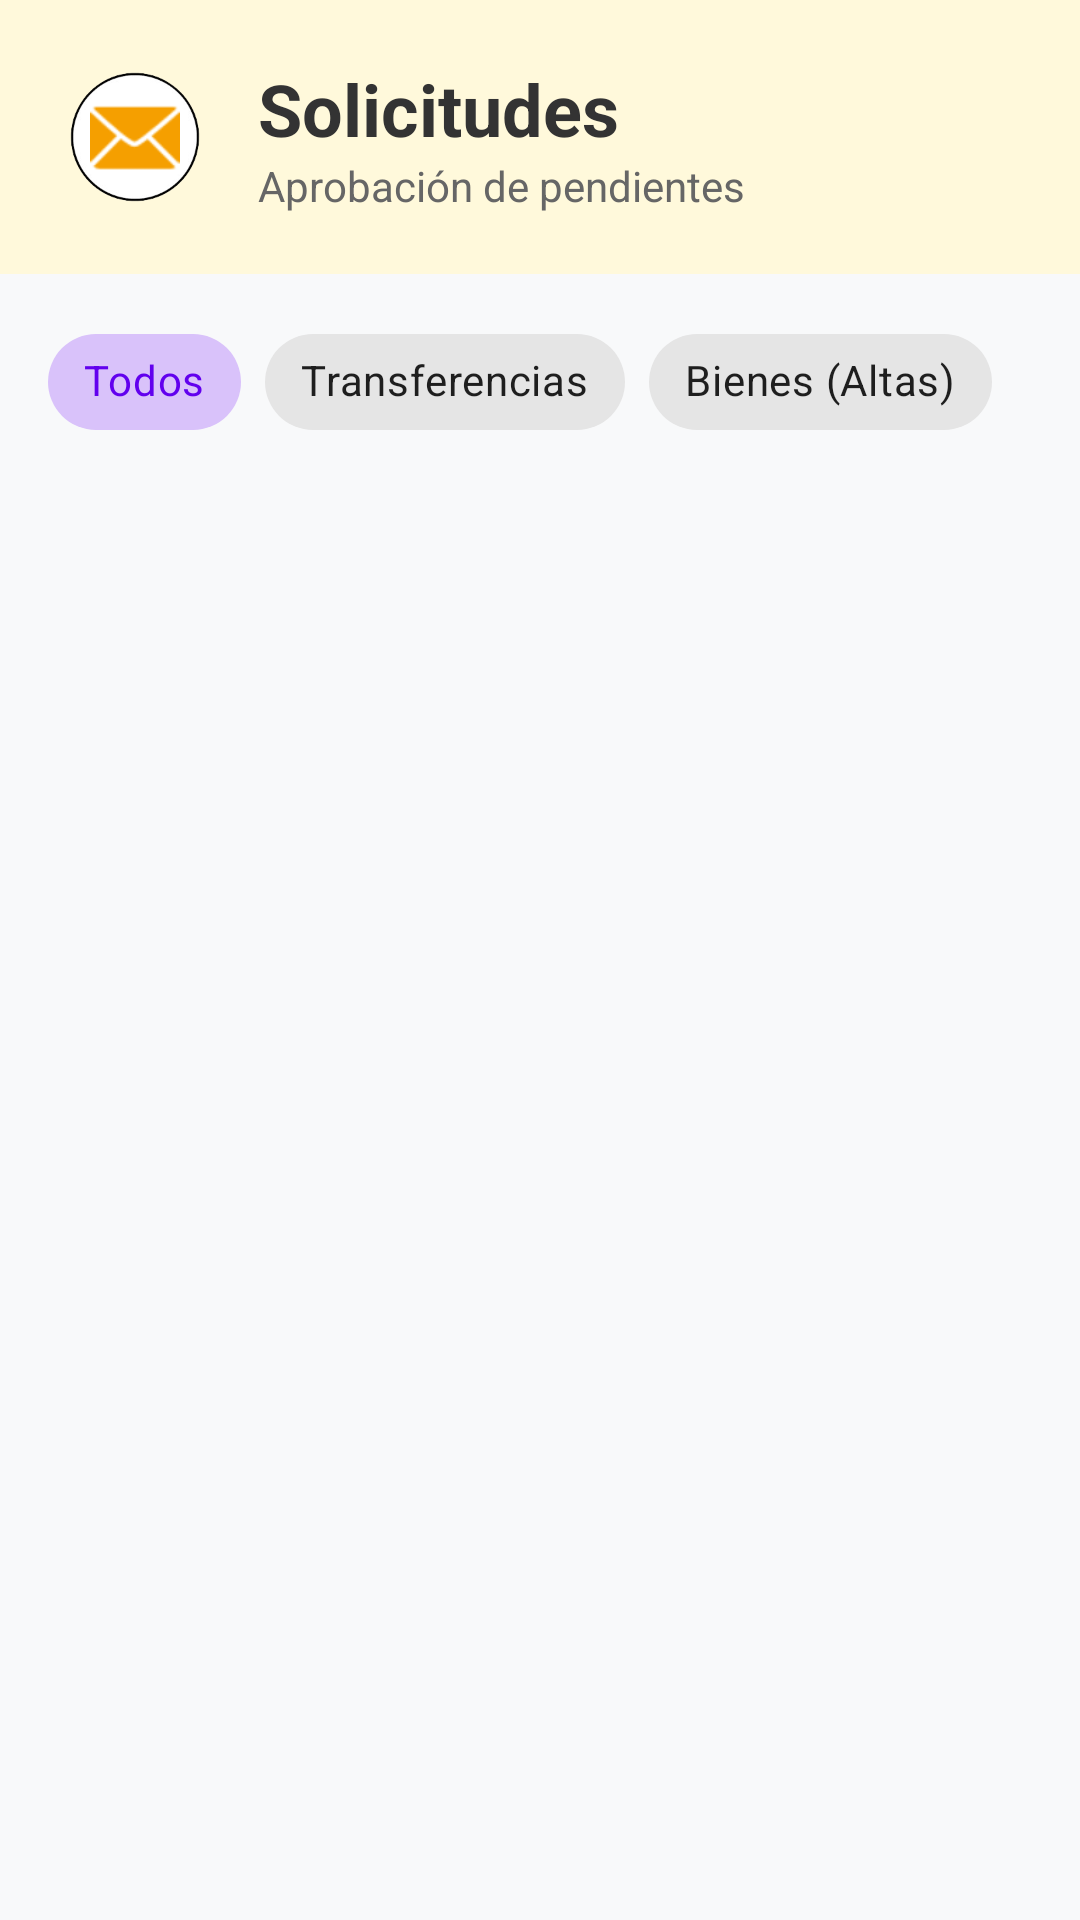

Icon bounding boxes for this 1080 x 1920 phone screenshot, format (left=x1, top=y1, right=x2, bottom=y2):
email: (left=90, top=106, right=180, bottom=170)
